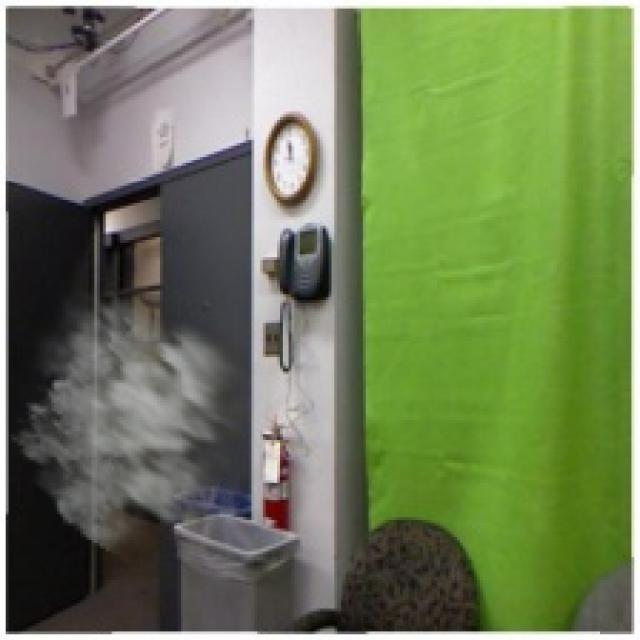Smoke: (8, 283, 272, 566)
